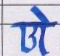e_matra: (31, 6, 50, 22)
